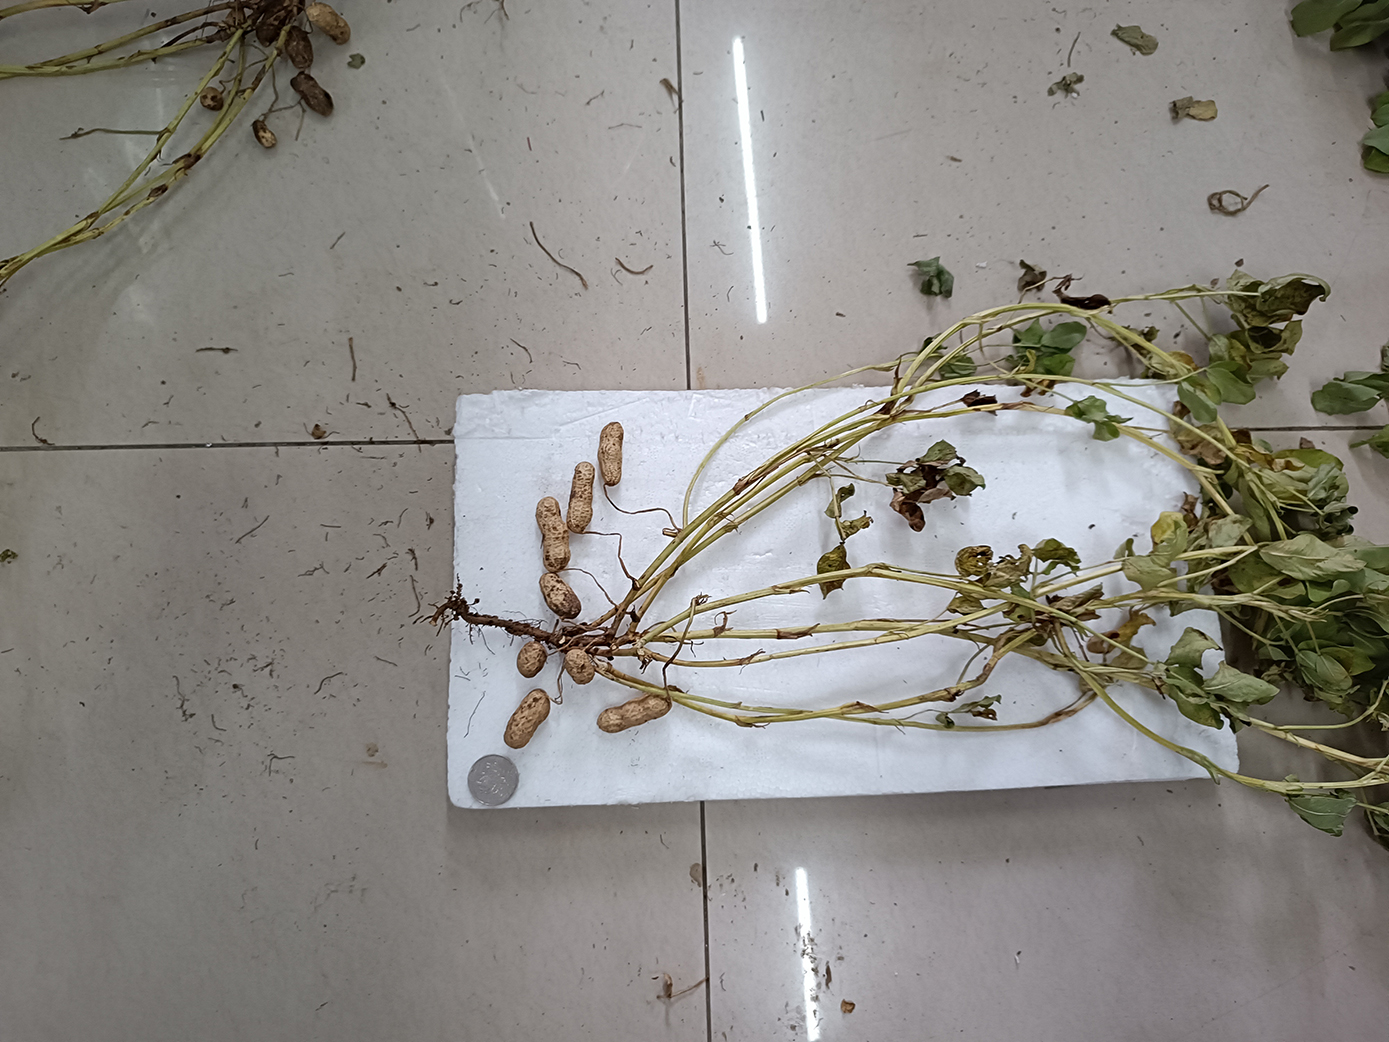h: (597, 690, 673, 733), (503, 688, 549, 750), (537, 496, 571, 571), (566, 462, 599, 534), (539, 571, 581, 618), (597, 420, 625, 486), (513, 642, 548, 678), (564, 648, 595, 684)
